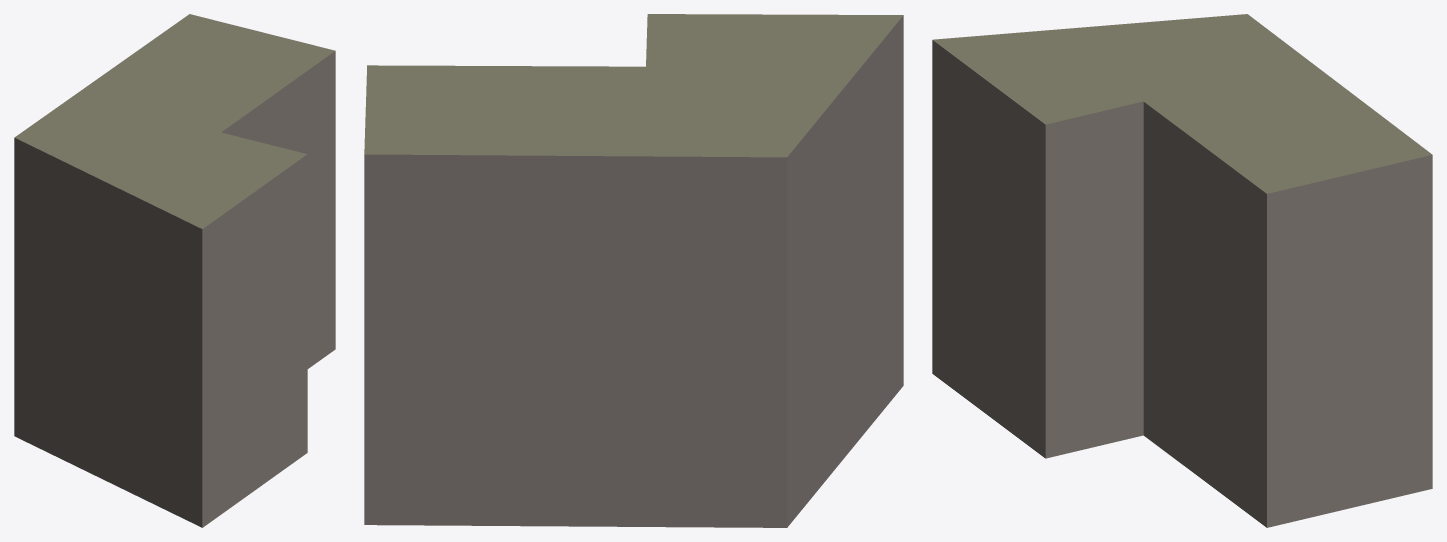
The model's file is nyc-1080609-0.glb.
3 views of the same model, side by side, from view 1: azimuth 30°, elevation 25°; view 2: azimuth 150°, elevation 25°; view 3: azimuth 270°, elevation 25° (orthographic). The views are drawn at different scales.
Parts seen in each view (by area): view 1: nyc-1080609-0; view 2: nyc-1080609-0; view 3: nyc-1080609-0.
Part boxes in pixels (left/top/right/bottom): nyc-1080609-0: left=14, top=14, right=335, bottom=527; nyc-1080609-0: left=364, top=14, right=903, bottom=527; nyc-1080609-0: left=932, top=14, right=1432, bottom=527.
Size of the model in its own units: 52.63 by 45.54 by 61.84.
